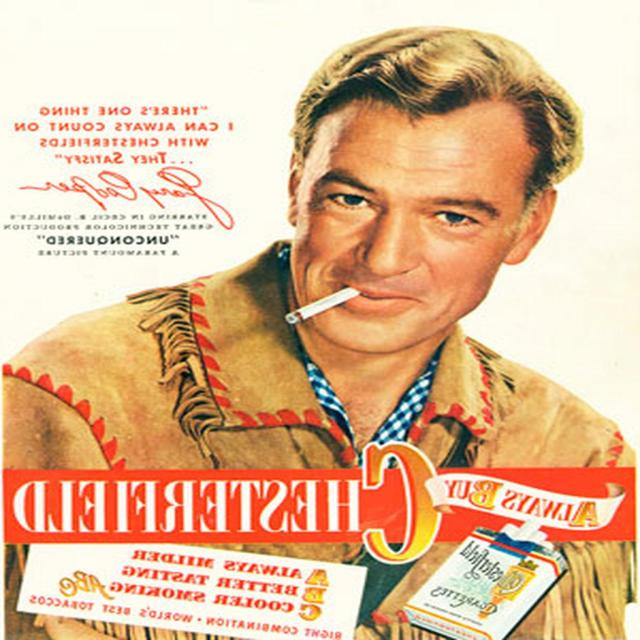smoking: (264, 13, 594, 355)
